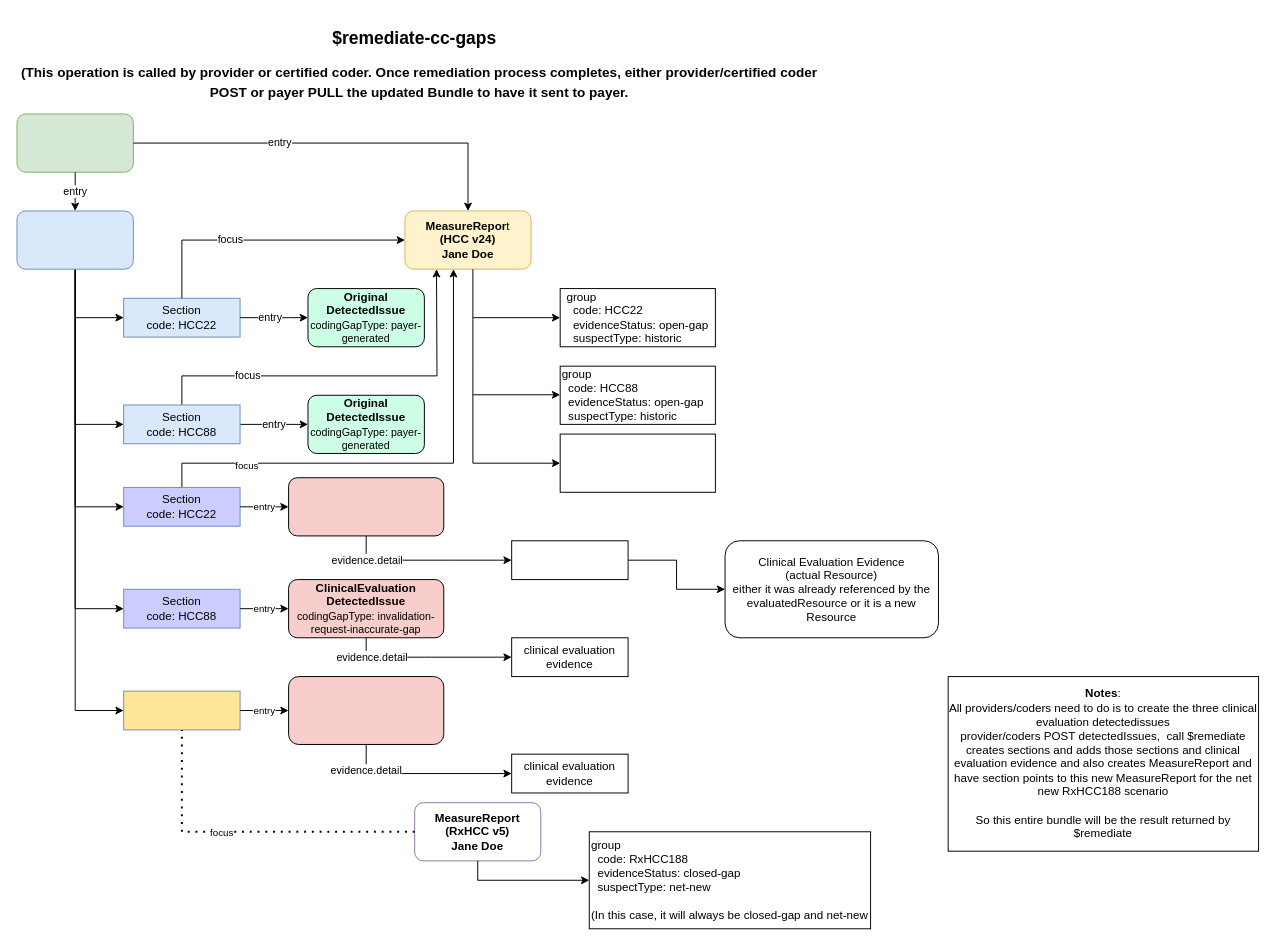
Image size: 1276x946. Some labels were removed from this diagram. Here are the shapes that lost their labels. From the top down, the box of each, then its label:
(16, 113, 133, 172): Bundle id: nn (#2) type: document
(16, 210, 133, 269): Composition id: a (same id) status: preliminary Jane Done
(559, 433, 715, 492): evaluatedResource (original evidence)
(288, 477, 444, 536): ClinicalEvaluation DetectedIssue codingGapType: gap-closure-request
(511, 540, 628, 580): clinical evaluation evidence (Reference)
(123, 690, 240, 730): Section code: RxHCC188
(288, 676, 444, 744): ClinicalEvaluation DetectedIssue codingGapType: net-new-request
